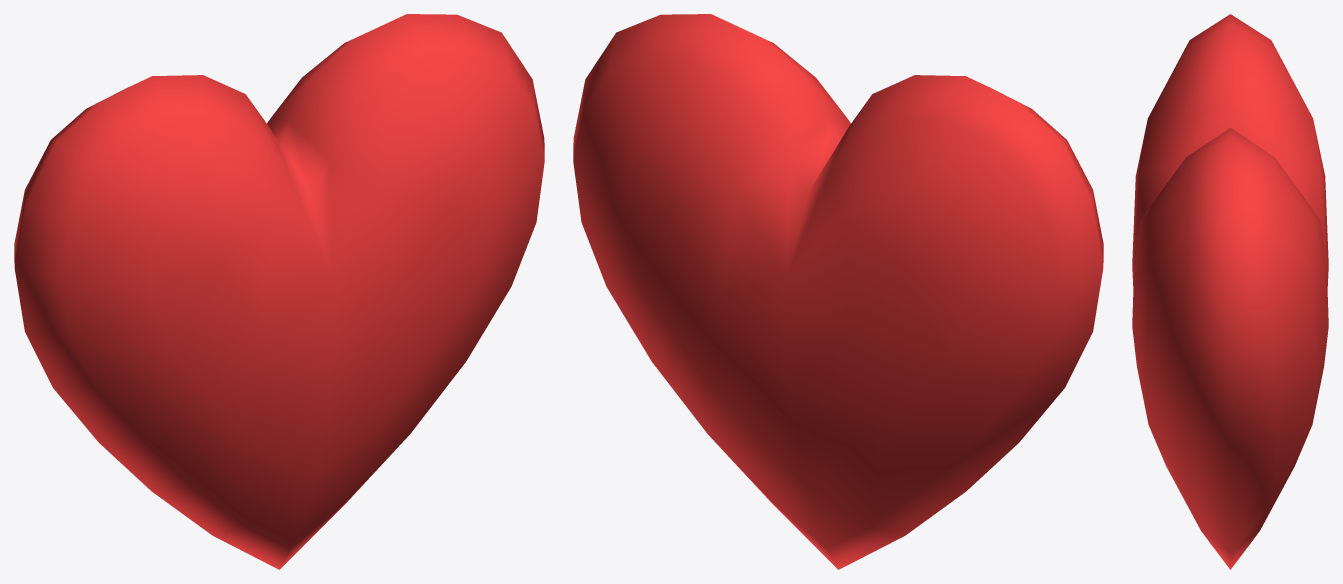
Rendered from Heart_TypeB.FBX.
3 renders of one model, left to right at view 1: azimuth 30°, elevation 25°; view 2: azimuth 150°, elevation 25°; view 3: azimuth 270°, elevation 25°, orthographic. The views are drawn at different scales.
Parts seen in each view (by area): view 1: Heart_TypeB; view 2: Heart_TypeB; view 3: Heart_TypeB.
Part boxes in pixels (x1,y1,x2,y2): Heart_TypeB: (14, 14, 544, 569); Heart_TypeB: (573, 14, 1103, 569); Heart_TypeB: (1132, 14, 1328, 569).
Bounding box in the file's own units: 22.85 × 21.63 × 7.91.
